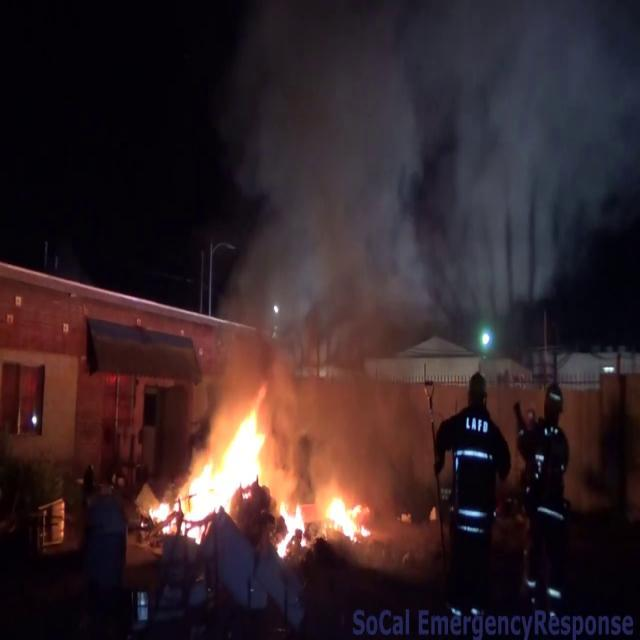Fire: (148, 382, 280, 536), (275, 482, 375, 554)
Smoke: (208, 0, 640, 342)
